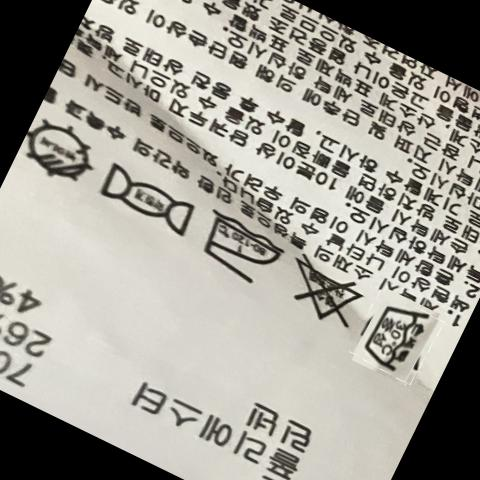DN_bleach: (295, 251, 363, 325)
dry_flat_in_shade: (29, 116, 96, 185)
hand_wash: (371, 295, 428, 379)
iron_low: (205, 205, 284, 286)
wring: (97, 158, 194, 241)
